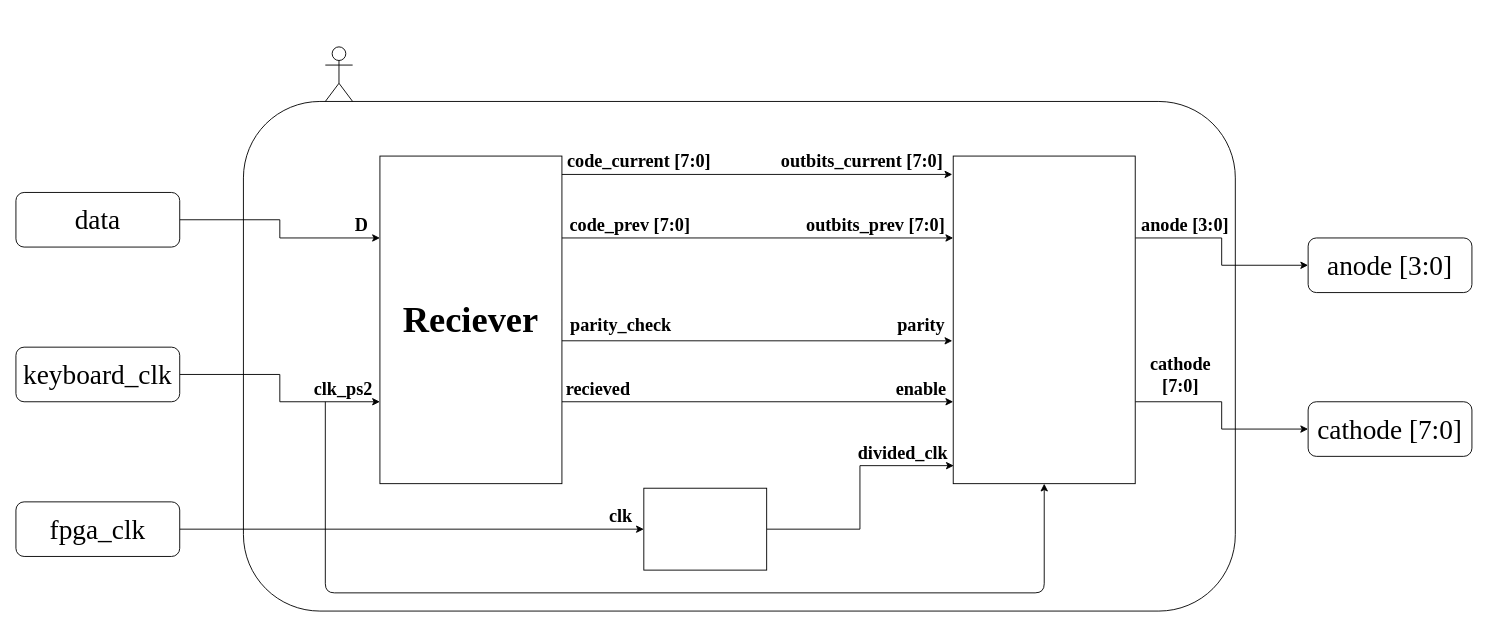
The diagram is 1488 pixels wide and 627 high, and some of its shapes have lost their labels. Each missing label, with the centre of its shape:
"Clk Divider" belongs at (705,528).
"Display" belongs at (1043,319).
"rafael" belongs at (338,73).
